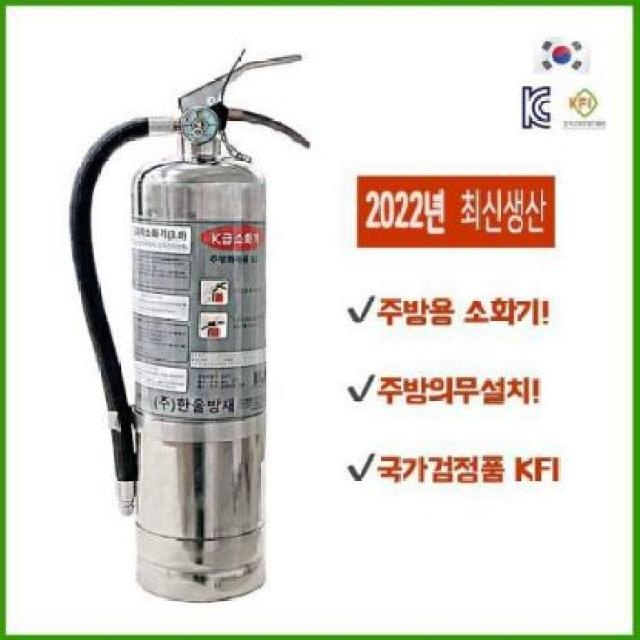fire extinguisher: (70, 53, 313, 604)
